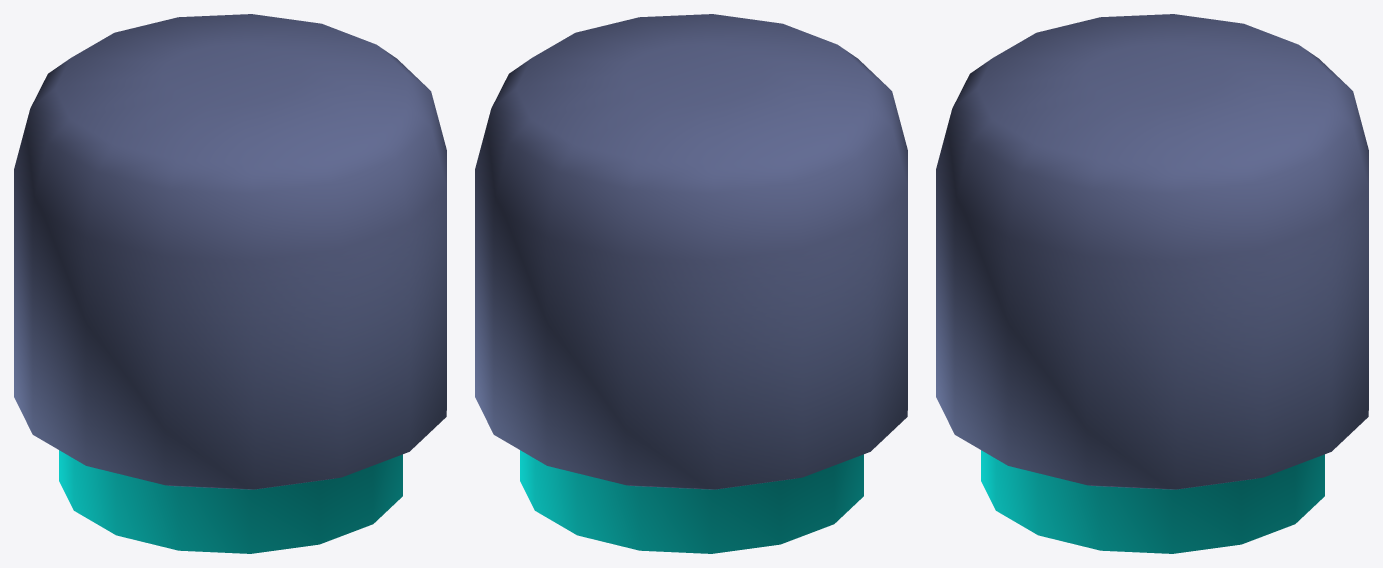
Rendered from plug.fbx.
The picture shows the model from 3 angles, left to right: view 1: azimuth 30°, elevation 25°; view 2: azimuth 150°, elevation 25°; view 3: azimuth 270°, elevation 25°; orthographic projection.
Visible parts, largest first — view 1: plug; view 2: plug; view 3: plug.
Part boxes in pixels (x1,y1,x2,y2): plug: [14, 14, 446, 553]; plug: [475, 14, 907, 553]; plug: [936, 14, 1368, 553].
Size of the model in its own units: 101 by 104 by 100.
